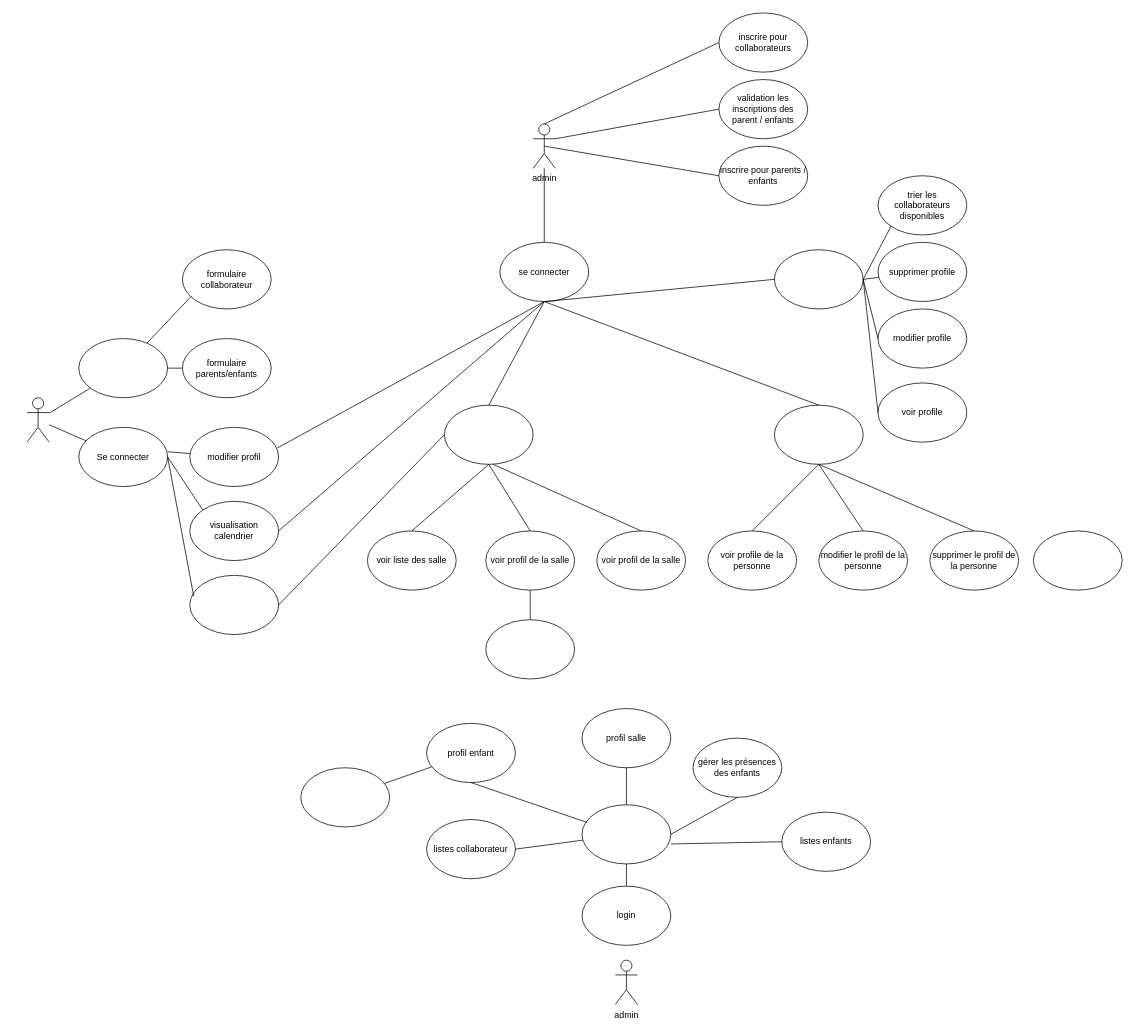
Some shapes in this 1135 by 1033 pixel diagram are drawn without their labels. Here are the shapes that lost their labels. From the top down, the box of each, then its label:
(774, 249, 863, 309): voir liste des collabrateurs
(78, 338, 168, 398): inscription
(26, 397, 49, 442): parent collaborateur
(444, 404, 533, 464): gestion des salles
(774, 404, 863, 464): voir liste des enfants / parent
(1033, 530, 1122, 590): trier la liste
(189, 575, 279, 635): avertir l'absence
(485, 619, 575, 679): voir nombre de places
(300, 767, 390, 827): commentaire enfant
(581, 804, 671, 864): voir liste des salles
